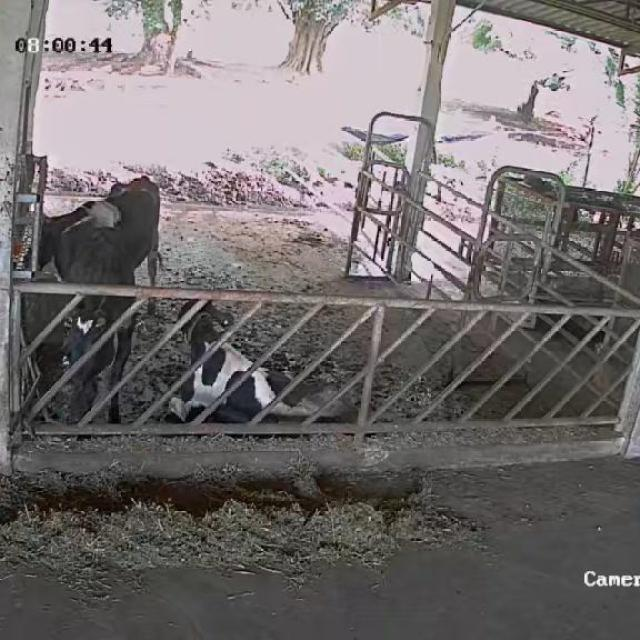drinking: (19, 174, 164, 324)
lying down: (164, 295, 364, 439)
